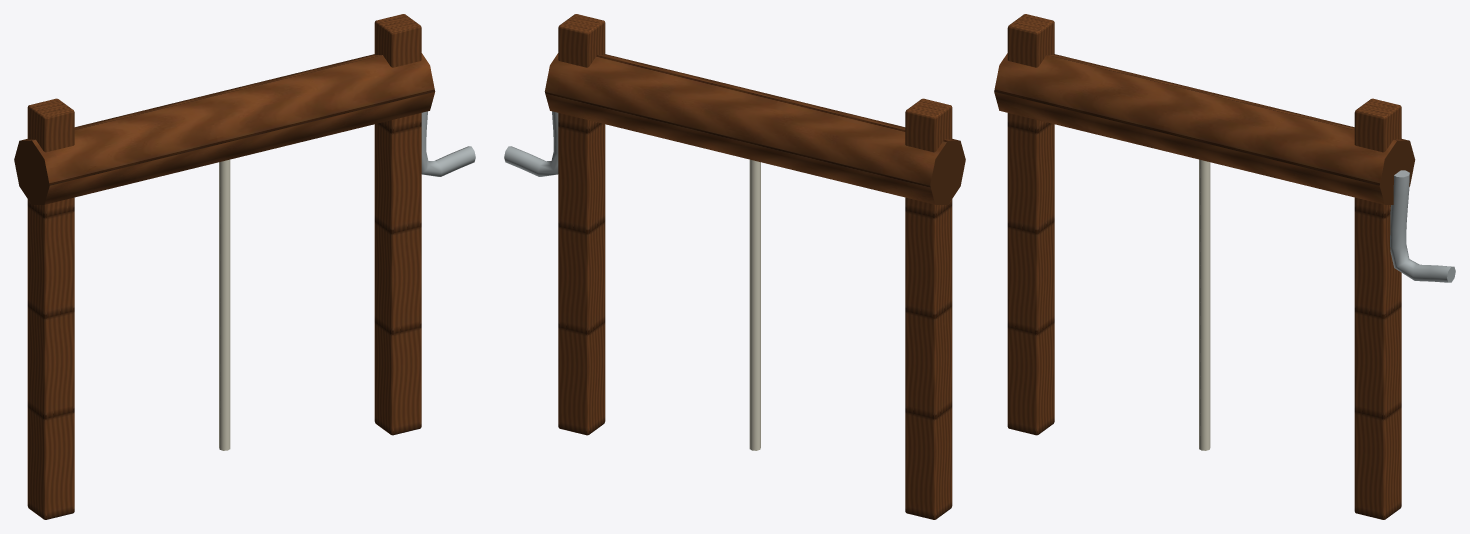
The model's file is water-collection-and-purification-well-windlass-91c9da56__20184.glb.
3 views of the same model, side by side, from view 1: azimuth 30°, elevation 25°; view 2: azimuth 150°, elevation 25°; view 3: azimuth 330°, elevation 25° (orthographic).
Parts seen in each view (by area): view 1: well-windlass; view 2: well-windlass; view 3: well-windlass.
Part boxes in pixels (x1,y1,x2,y2): well-windlass: (14, 14, 475, 519); well-windlass: (504, 14, 965, 519); well-windlass: (994, 14, 1455, 519).
Bounding box in the file's own units: 1.14 × 1 × 0.16.
3 materials, 1 textured.
